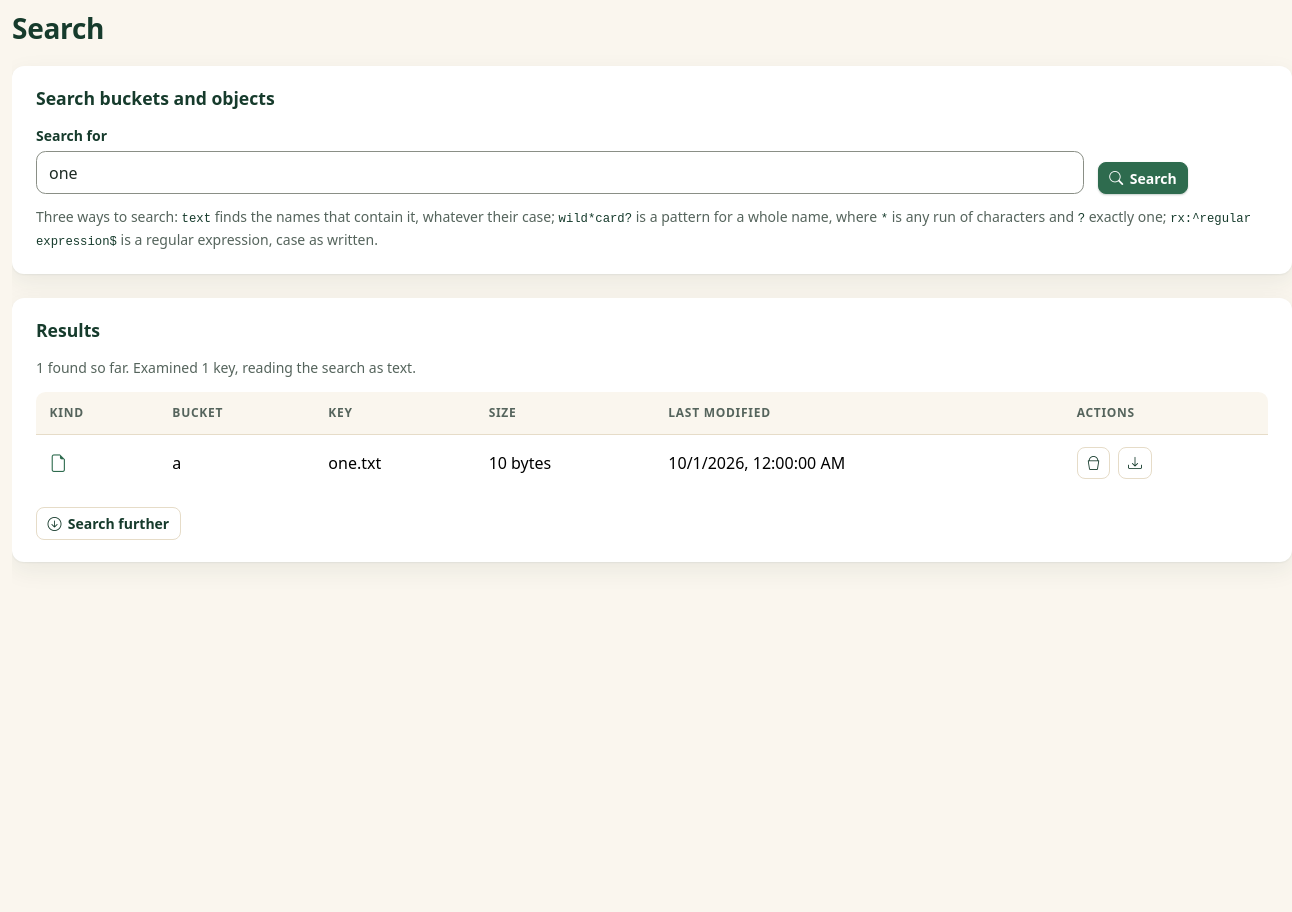
Scenario: search › shows a refusal, and one that comes while searching further keeps what was found
Expected: the link named "Download one.txt" is shown, [1118,447,1152,479]
Step 1. Click the button "Search further" → (108, 524), box [36,507,181,540]
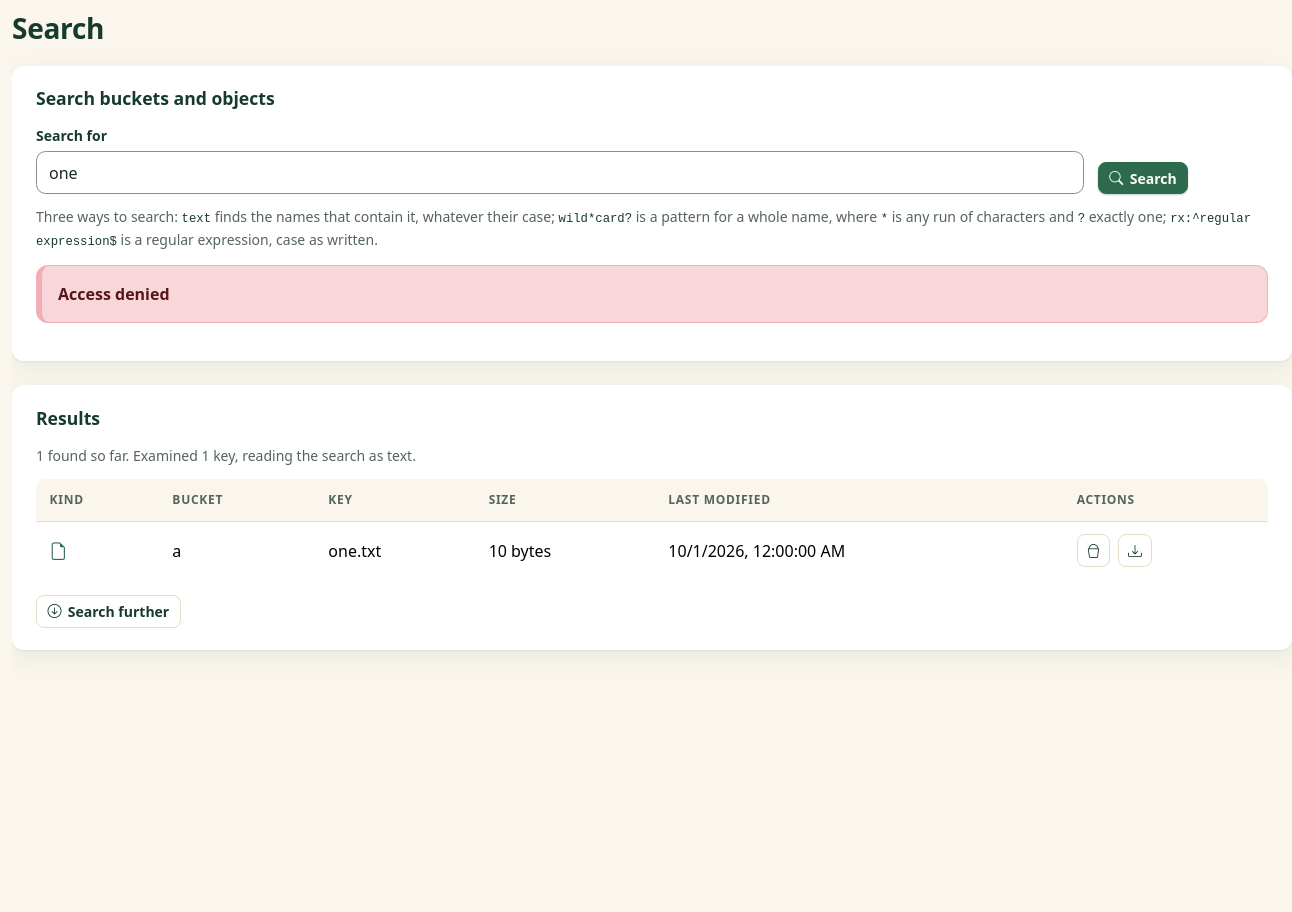
Expected: the link named "Download one.txt" is shown, [1118,534,1152,567]
Result: the message "Access denied" is shown at [36,265,1268,323]
